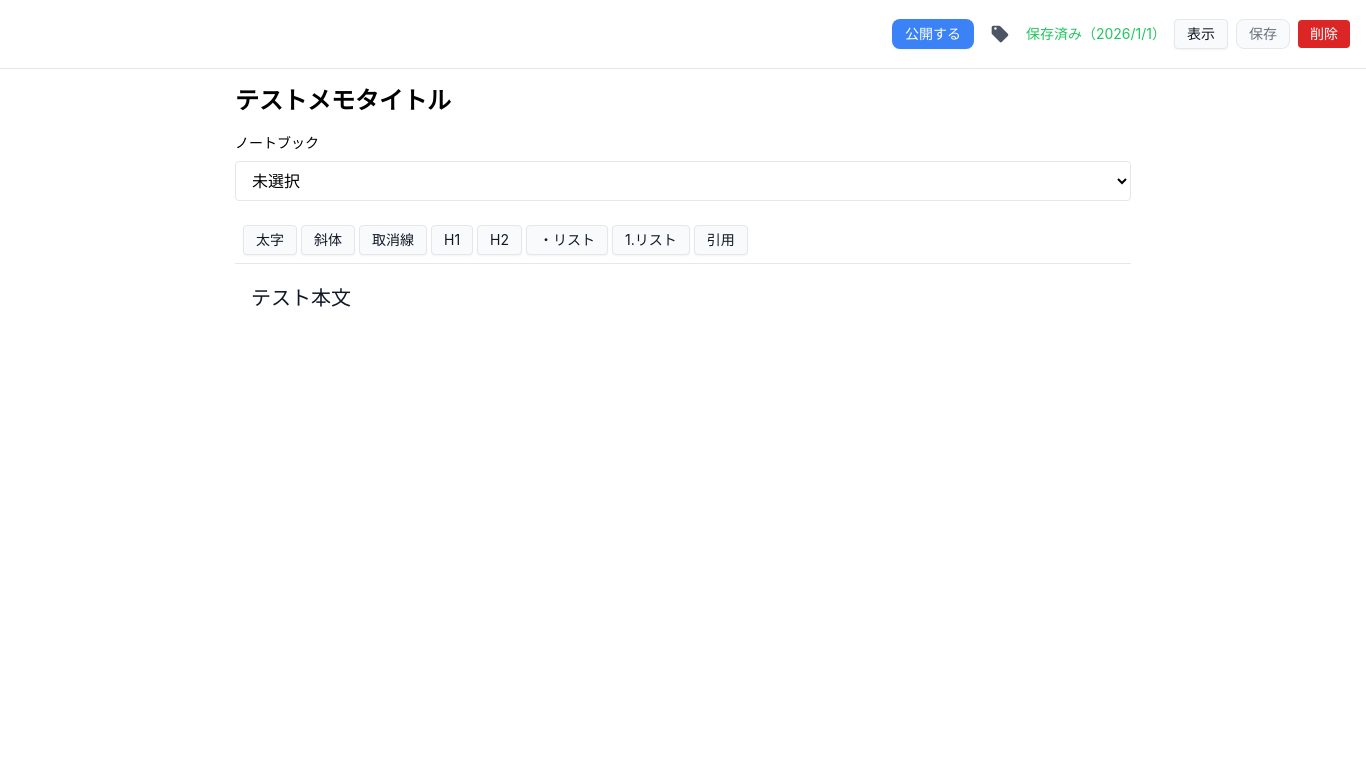
Test: 表示モード統合テスト › Task 5.3-1: 起動フロー › 起動ボタンクリック後に FocusMemoOverlay がマウントされる
Click the button with test id "display-mode-button": (1201, 34) [1174, 19, 1228, 49]
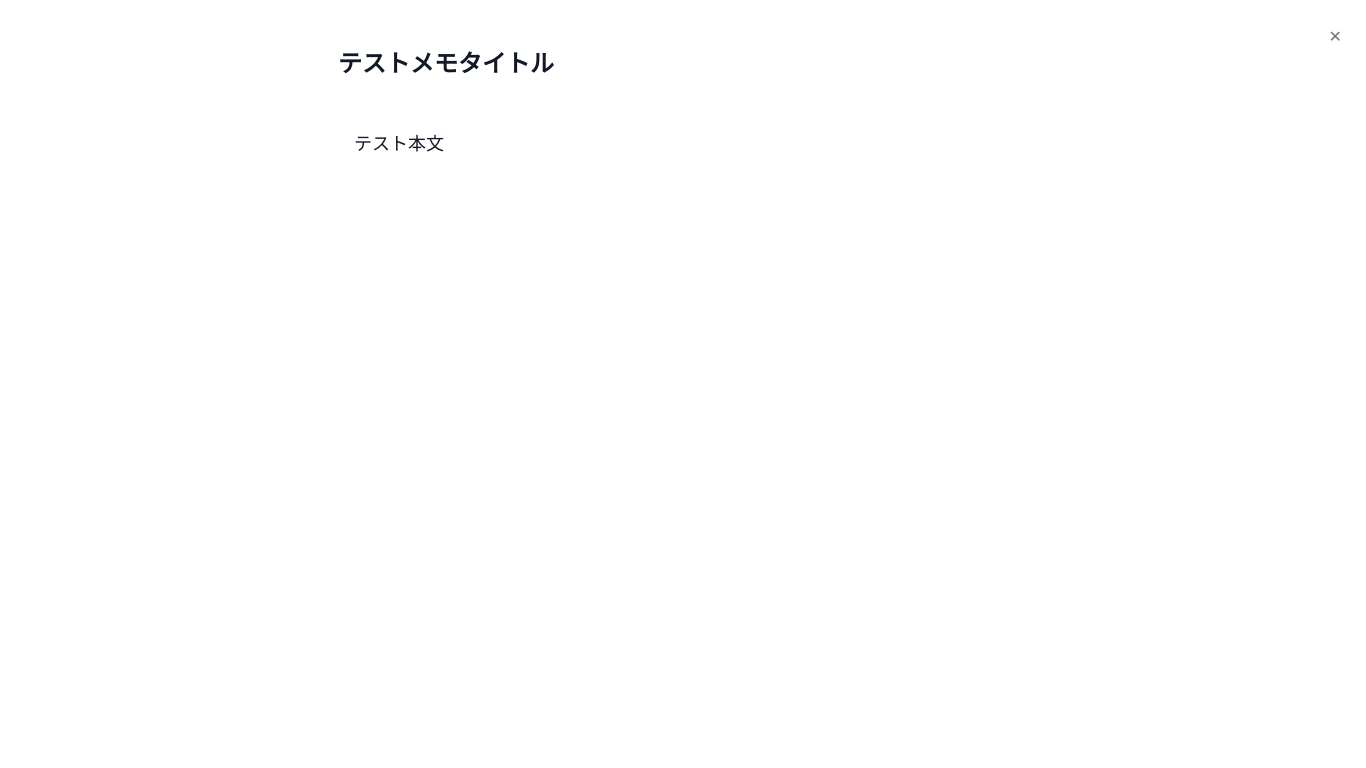
Now the dialog with test id "focus-memo-overlay" is shown
